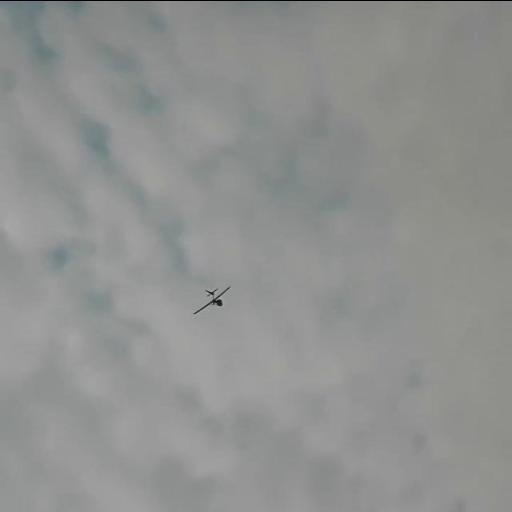uav: (192, 286, 231, 312)
